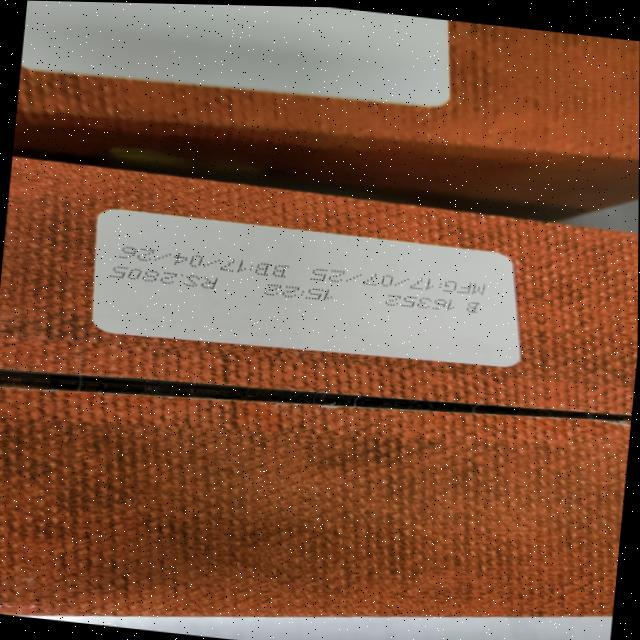BB: (118, 245, 290, 279)
Batch: (380, 292, 478, 315)
MFG: (308, 263, 487, 298)
RS: (107, 265, 219, 290)
TimeStamp: (260, 281, 334, 302)
